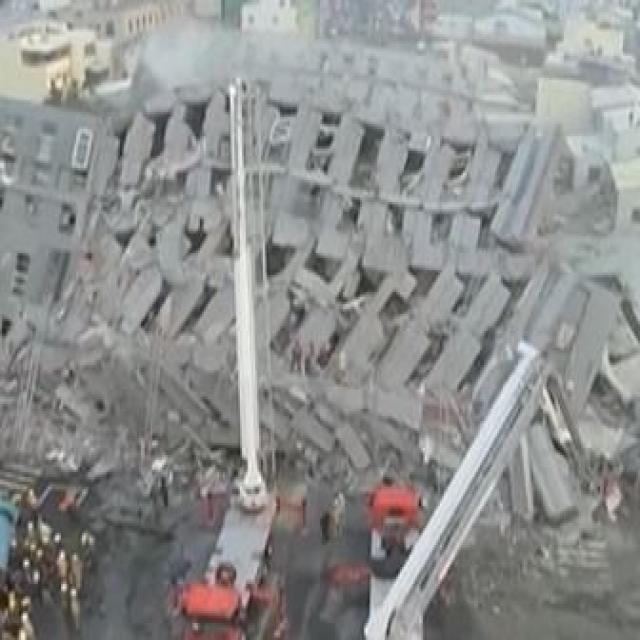collapsed_building: (12, 78, 616, 511)
